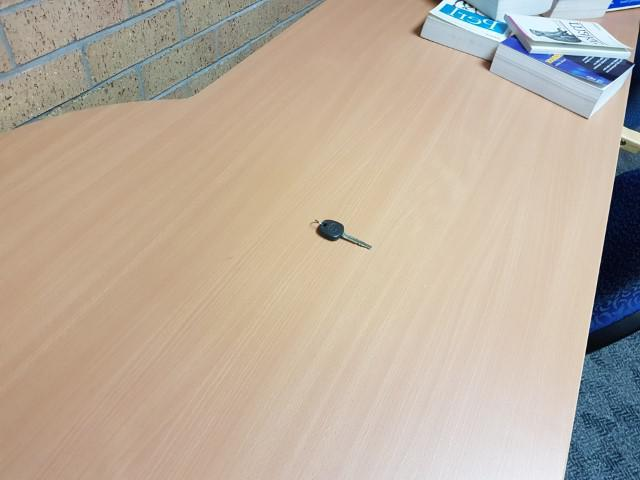key: (319, 220, 372, 250)
